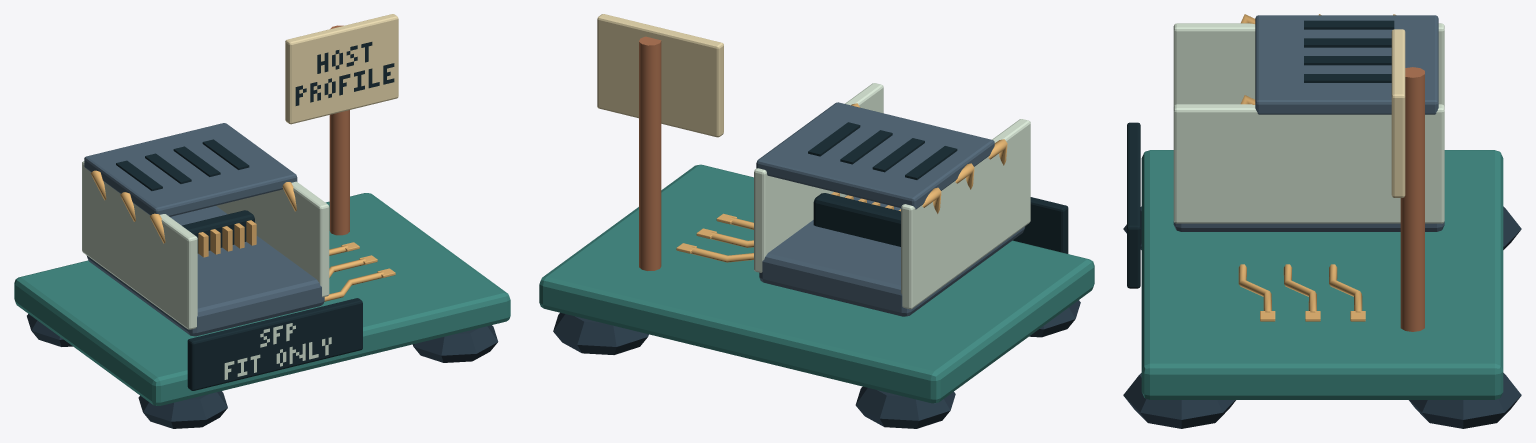
The picture shows the model from 3 angles, left to right: view 1: azimuth 30°, elevation 25°; view 2: azimuth 150°, elevation 25°; view 3: azimuth 270°, elevation 25°; orthographic projection. The views are drawn at different scales.
Parts seen in each view (by area): view 1: PR082 enamel and hardware; view 2: PR082 enamel and hardware; view 3: PR082 enamel and hardware.
Boxes of the visible parts, left/top/right/bottom form: PR082 enamel and hardware: left=14, top=14, right=510, bottom=428; PR082 enamel and hardware: left=539, top=14, right=1094, bottom=428; PR082 enamel and hardware: left=1123, top=14, right=1521, bottom=428.
Bounding box in the file's own units: 1.05 × 0.7333 × 0.8.
